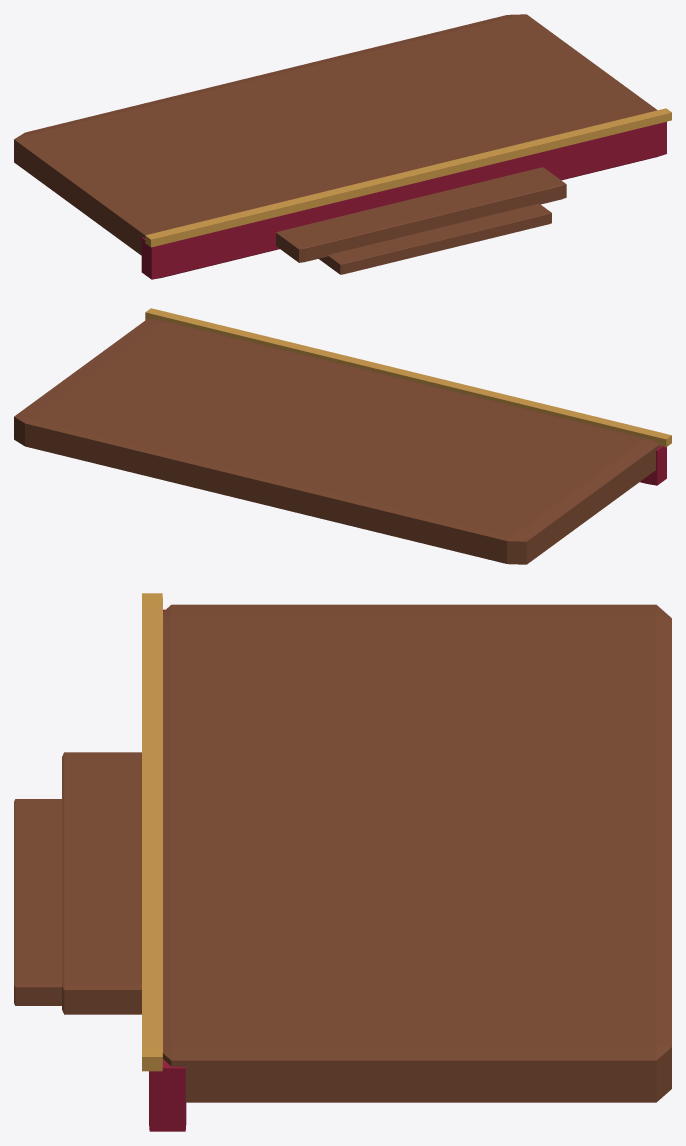
Rendered from stage.glb.
The picture shows the model from 3 angles, top to bottom: view 1: azimuth 30°, elevation 25°; view 2: azimuth 150°, elevation 25°; view 3: azimuth 270°, elevation 25°; orthographic projection. The views are drawn at different scales.
Visible parts, largest first — view 1: stage_deck, stage_fascia, stage_step_top, stage_brass_edge, stage_step_low; view 2: stage_deck, stage_brass_edge, stage_fascia; view 3: stage_deck, stage_step_top, stage_brass_edge, stage_step_low, stage_fascia.
Part boxes in pixels (x1,y1,x2,y2): stage_deck: [14, 14, 657, 255]; stage_fascia: [141, 121, 666, 279]; stage_step_top: [276, 167, 566, 262]; stage_brass_edge: [145, 108, 671, 247]; stage_step_low: [318, 203, 551, 274]; stage_deck: [14, 319, 659, 564]; stage_brass_edge: [145, 308, 671, 447]; stage_fascia: [640, 445, 666, 485]; stage_deck: [163, 604, 671, 1102]; stage_step_top: [62, 752, 141, 1014]; stage_brass_edge: [142, 593, 162, 1071]; stage_step_low: [14, 799, 61, 1005]; stage_fascia: [149, 609, 186, 1131].
Size of the model in its own units: 9.35 by 0.82 by 5.61.
